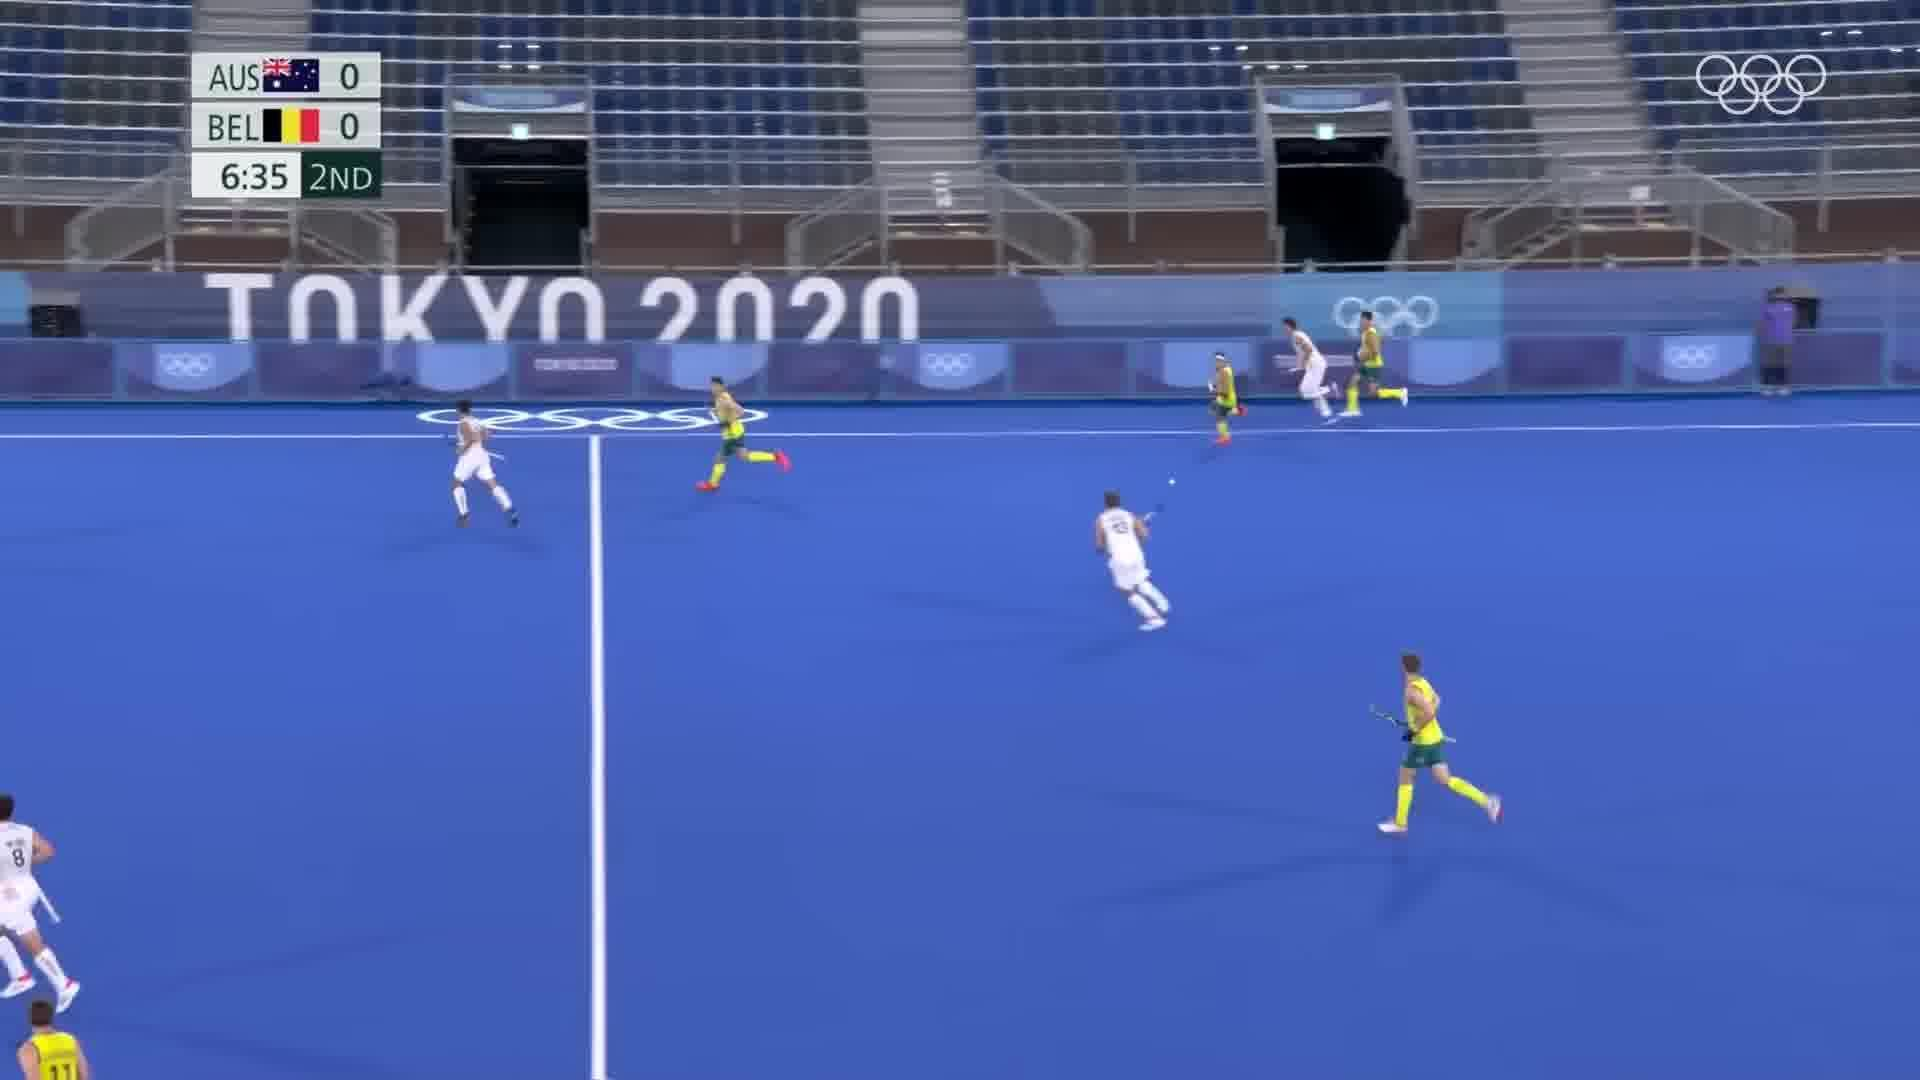ball: (1163, 473, 1184, 491)
